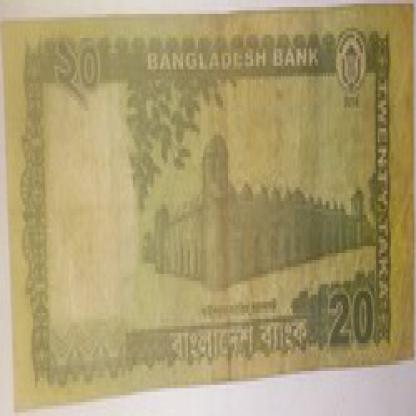Twenty: (40, 35, 123, 108), (311, 288, 391, 354)
